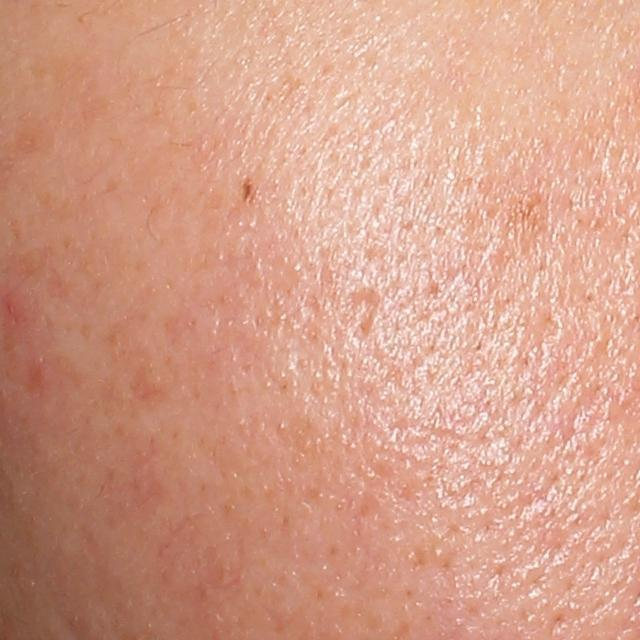atrophic_scar: (343, 284, 386, 339)
nevus: (238, 174, 261, 206)
